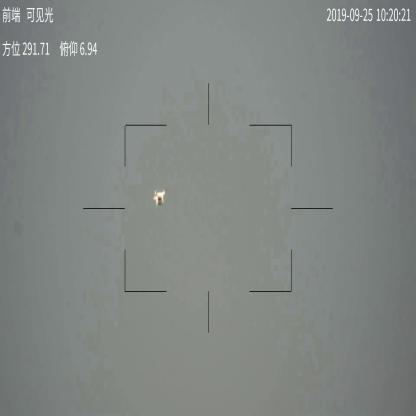uav: (150, 188, 167, 207)
